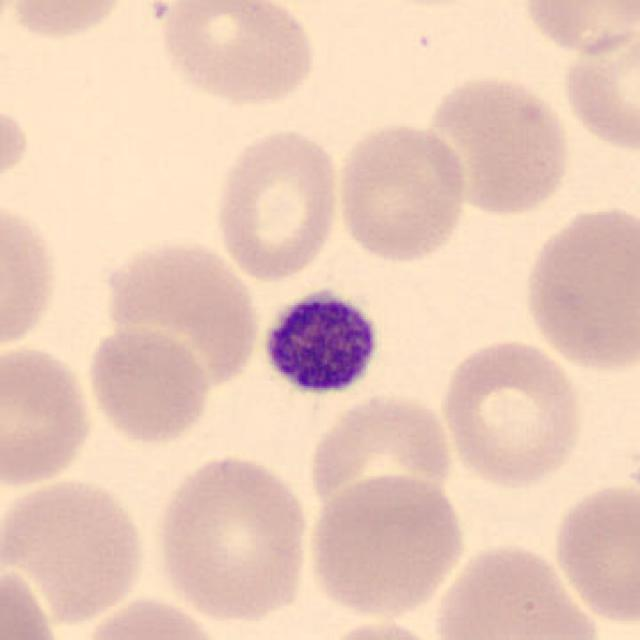Platelets: (255, 282, 390, 406)
RBC: (150, 450, 316, 624), (98, 233, 263, 395), (304, 469, 469, 621), (0, 471, 151, 626), (436, 335, 586, 490), (420, 70, 574, 218), (210, 123, 345, 284), (518, 197, 638, 374), (331, 118, 471, 266), (304, 388, 459, 520), (153, 0, 322, 109), (428, 537, 602, 640), (82, 323, 213, 446), (0, 340, 98, 492), (550, 476, 638, 628), (556, 18, 640, 157), (0, 194, 62, 358), (73, 592, 231, 640), (518, 0, 638, 58), (3, 0, 134, 44), (0, 557, 68, 640), (0, 97, 34, 203), (307, 617, 453, 640)
